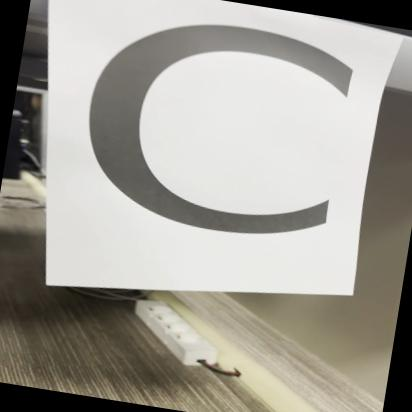seat: (38, 0, 386, 277)
